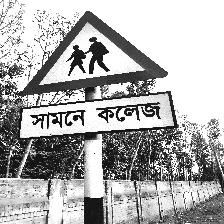College-in-front: (17, 10, 173, 140)
